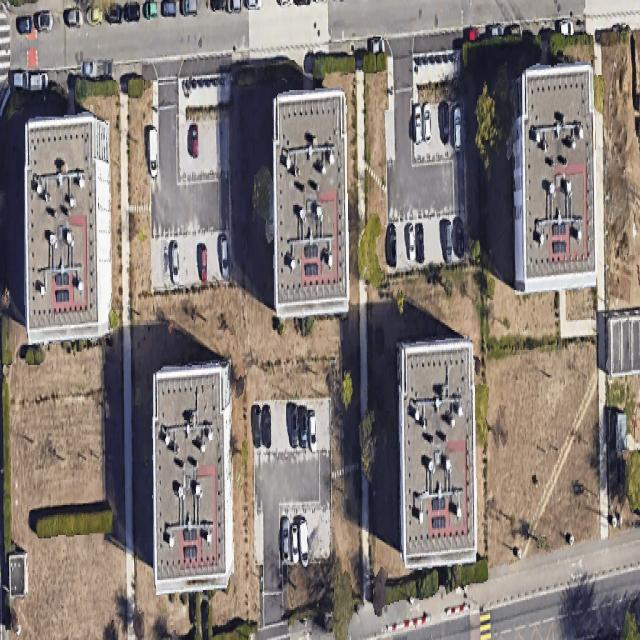immeuble: (504, 66, 601, 293), (21, 113, 112, 342), (149, 358, 233, 593), (395, 338, 478, 569), (269, 90, 350, 317)
